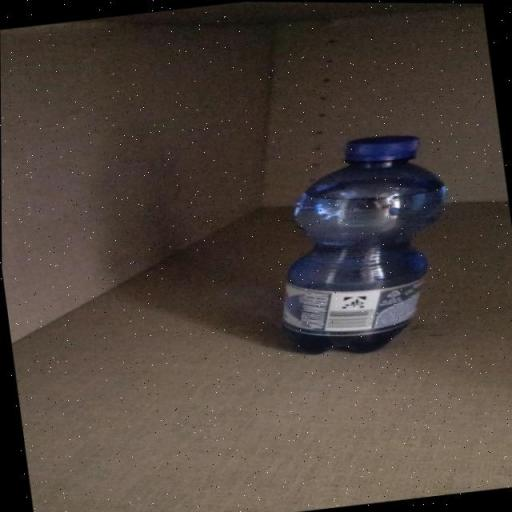plastic: (248, 125, 463, 364)
